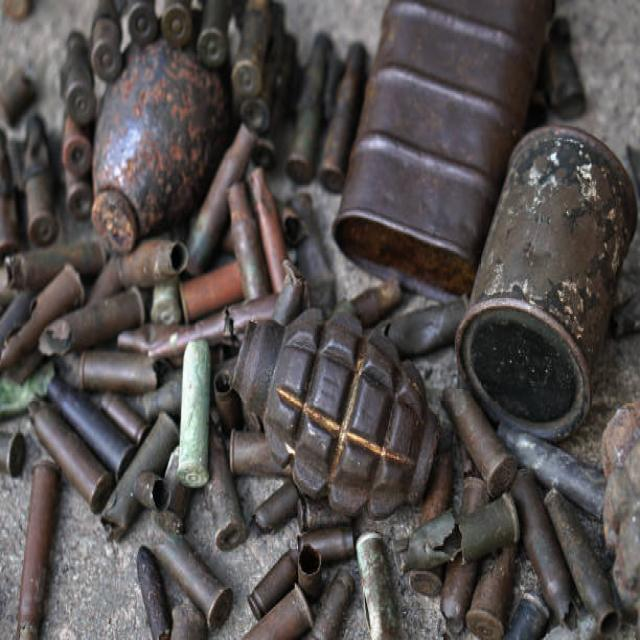grenade: (231, 295, 443, 516)
